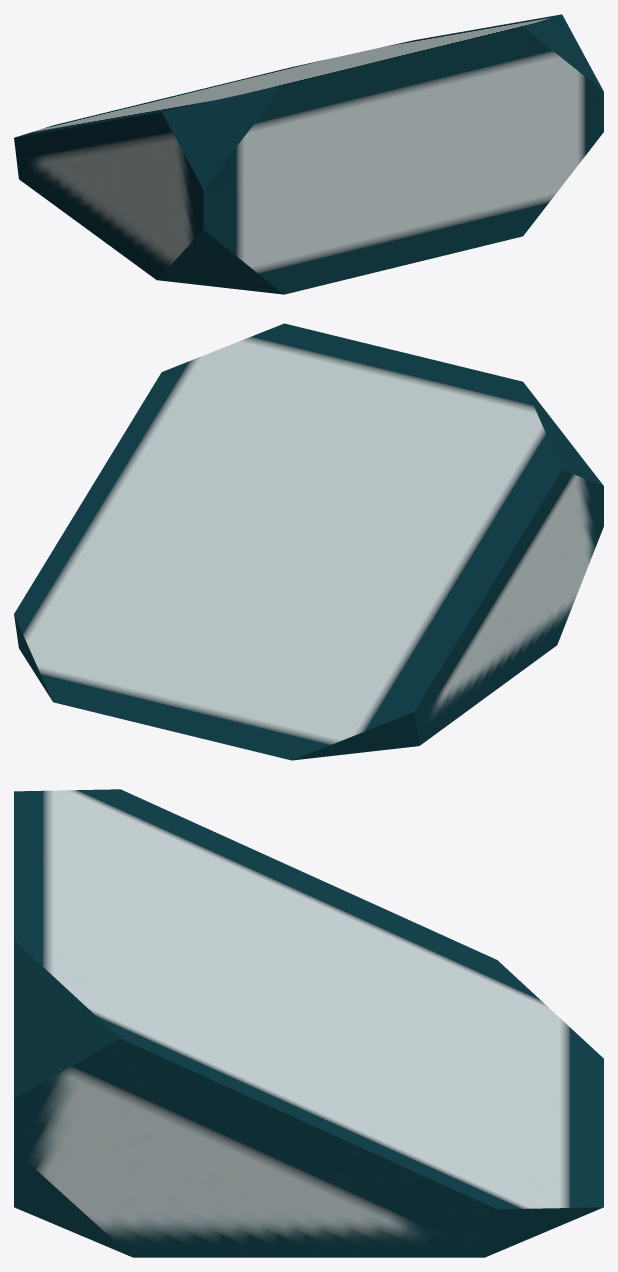
The model's file is MG-ChangJing-CeShi-BianPo-1.FBX.
3 views of the same model, one above another, from view 1: azimuth 30°, elevation 25°; view 2: azimuth 150°, elevation 25°; view 3: azimuth 270°, elevation 25° (orthographic). The views are drawn at different scales.
Visible parts, largest first — view 1: MG-ChangJing-CeShi-BianPo-1; view 2: MG-ChangJing-CeShi-BianPo-1; view 3: MG-ChangJing-CeShi-BianPo-1.
Boxes of the visible parts, x1,y1,x2,y2 form: MG-ChangJing-CeShi-BianPo-1: (14, 14, 603, 294); MG-ChangJing-CeShi-BianPo-1: (14, 323, 603, 760); MG-ChangJing-CeShi-BianPo-1: (14, 789, 603, 1257).
Size of the model in its own units: 15.75 by 7.87 by 15.75.
